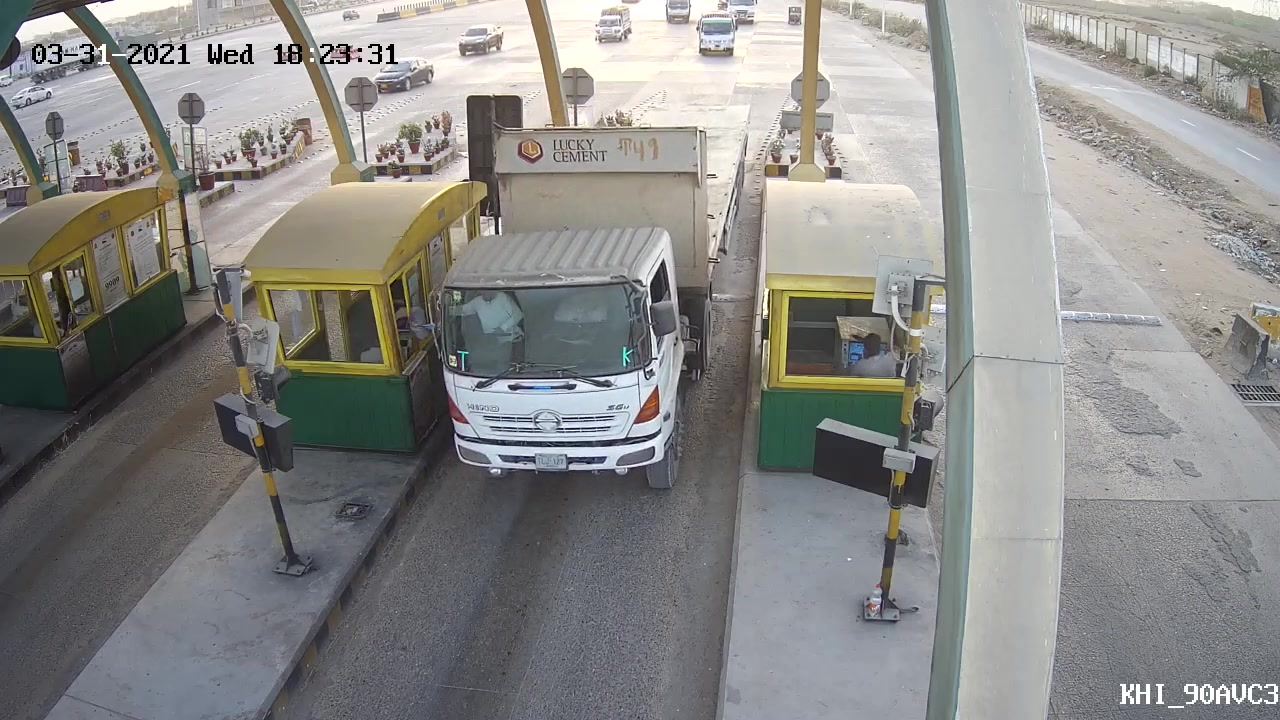F6: (401, 92, 751, 491)
